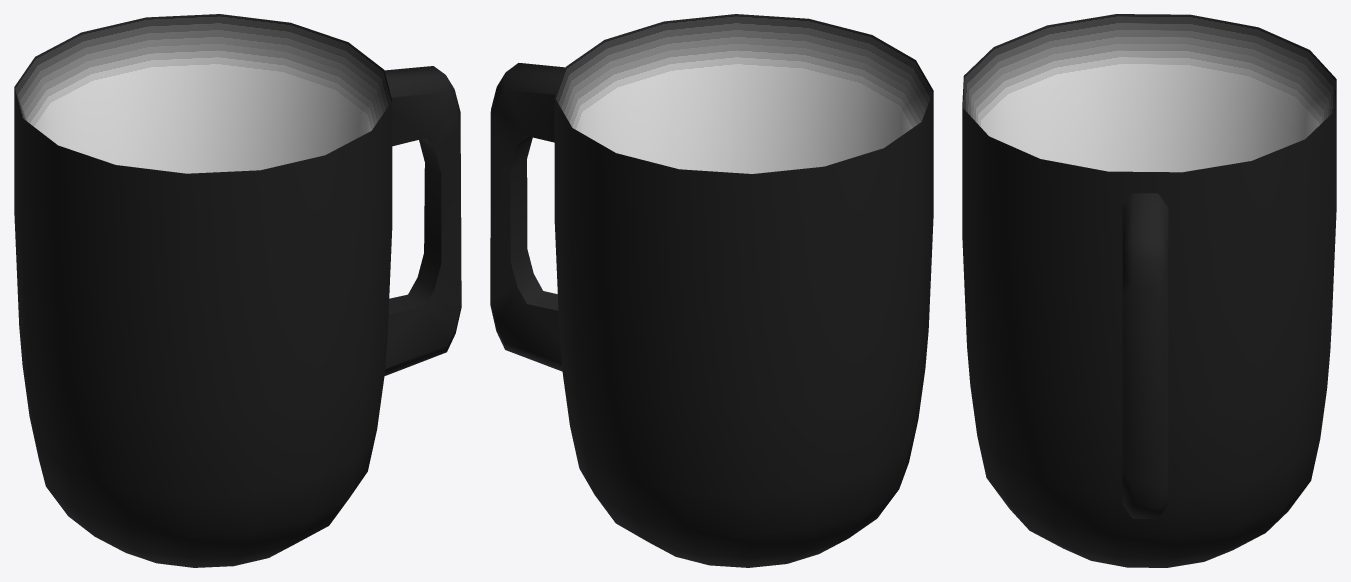
The model's file is Coffee-Cup-3.fbx.
3 renders of one model, left to right at view 1: azimuth 30°, elevation 25°; view 2: azimuth 150°, elevation 25°; view 3: azimuth 270°, elevation 25°, orthographic.
Parts seen in each view (by area): view 1: Coffee-Cup-3; view 2: Coffee-Cup-3; view 3: Coffee-Cup-3.
Part boxes in pixels (x1,y1,x2,y2): Coffee-Cup-3: (14,14,461,567); Coffee-Cup-3: (490,14,933,567); Coffee-Cup-3: (962,14,1336,567).
Bounding box in the file's own units: 0.1246 × 0.1248 × 0.098.
